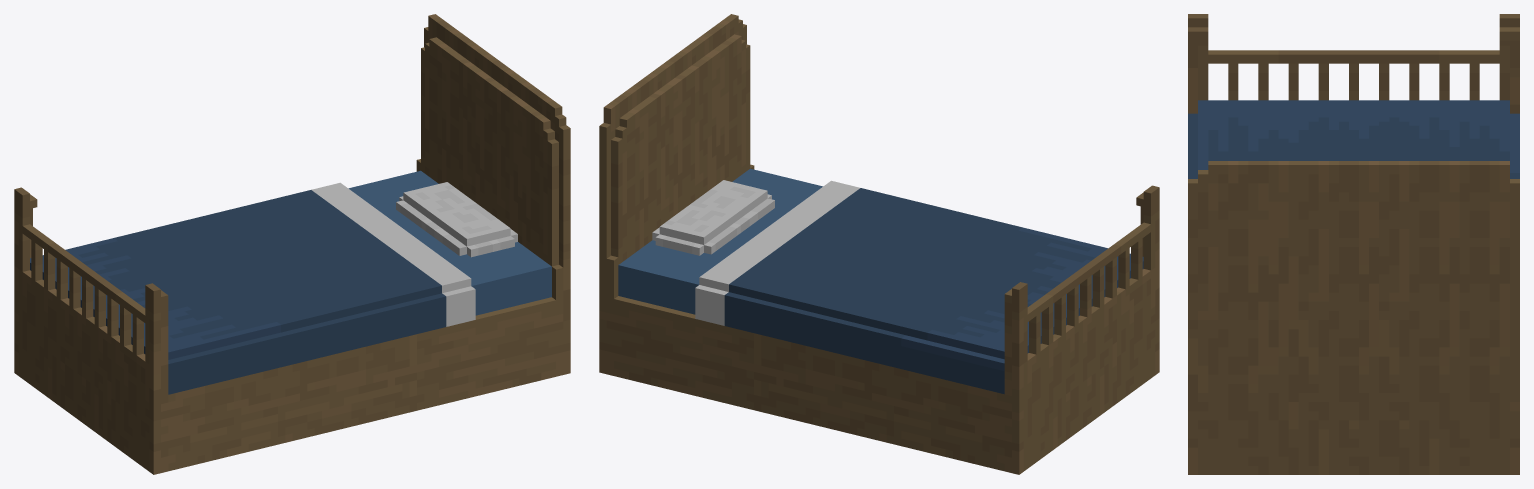
File: Decor-36.gltf
The picture shows the model from 3 angles, left to right: view 1: azimuth 30°, elevation 25°; view 2: azimuth 150°, elevation 25°; view 3: azimuth 270°, elevation 25°; orthographic projection. The views are drawn at different scales.
Parts seen in each view (by area): view 1: Node; view 2: Node; view 3: Node.
Boxes of the visible parts, x1,y1,x2,y2 form: Node: (14, 14, 570, 474); Node: (599, 14, 1159, 474); Node: (1188, 14, 1519, 474).
Size of the model in its own units: 5.7 by 3.4 by 3.3.
1 material, 1 textured.
